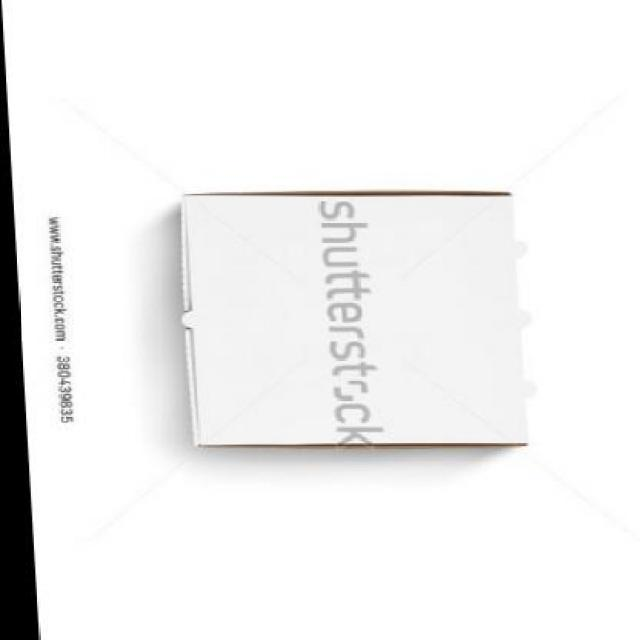box: (174, 189, 522, 448)
